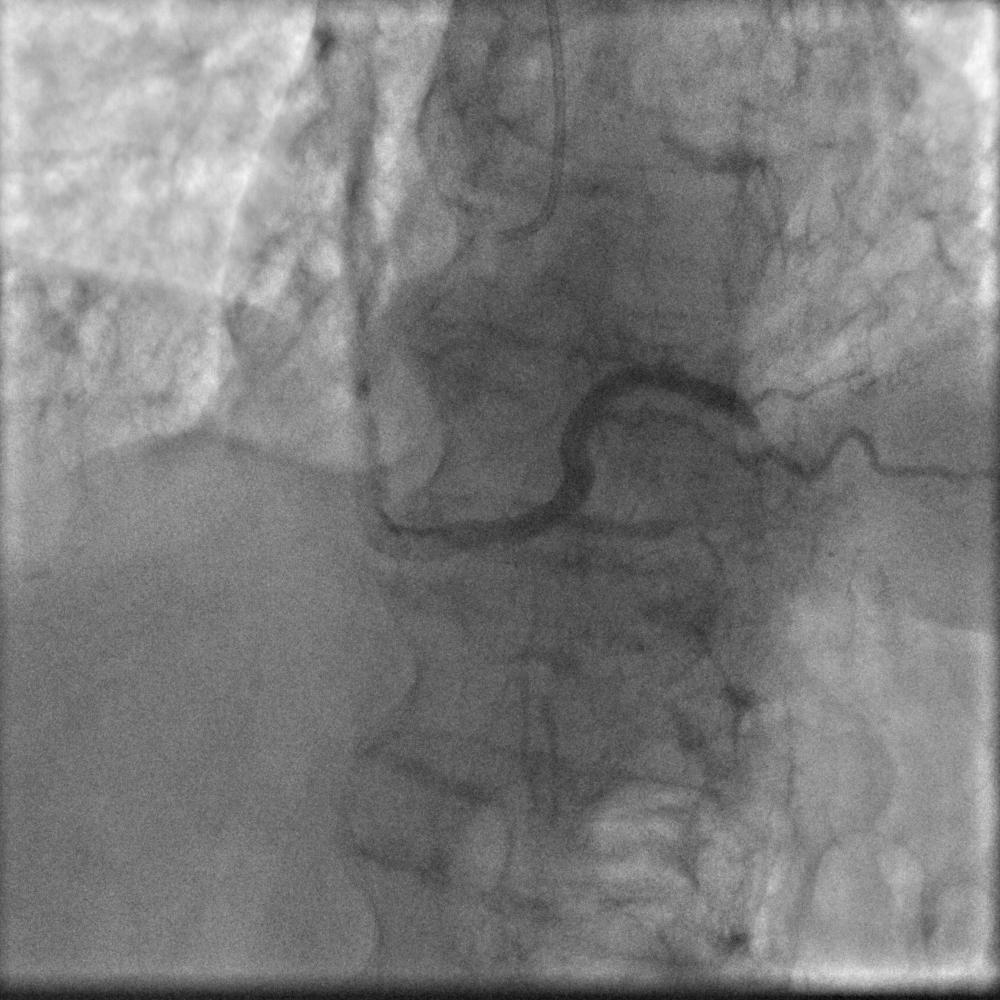Stenosis: (741, 386, 781, 477)
